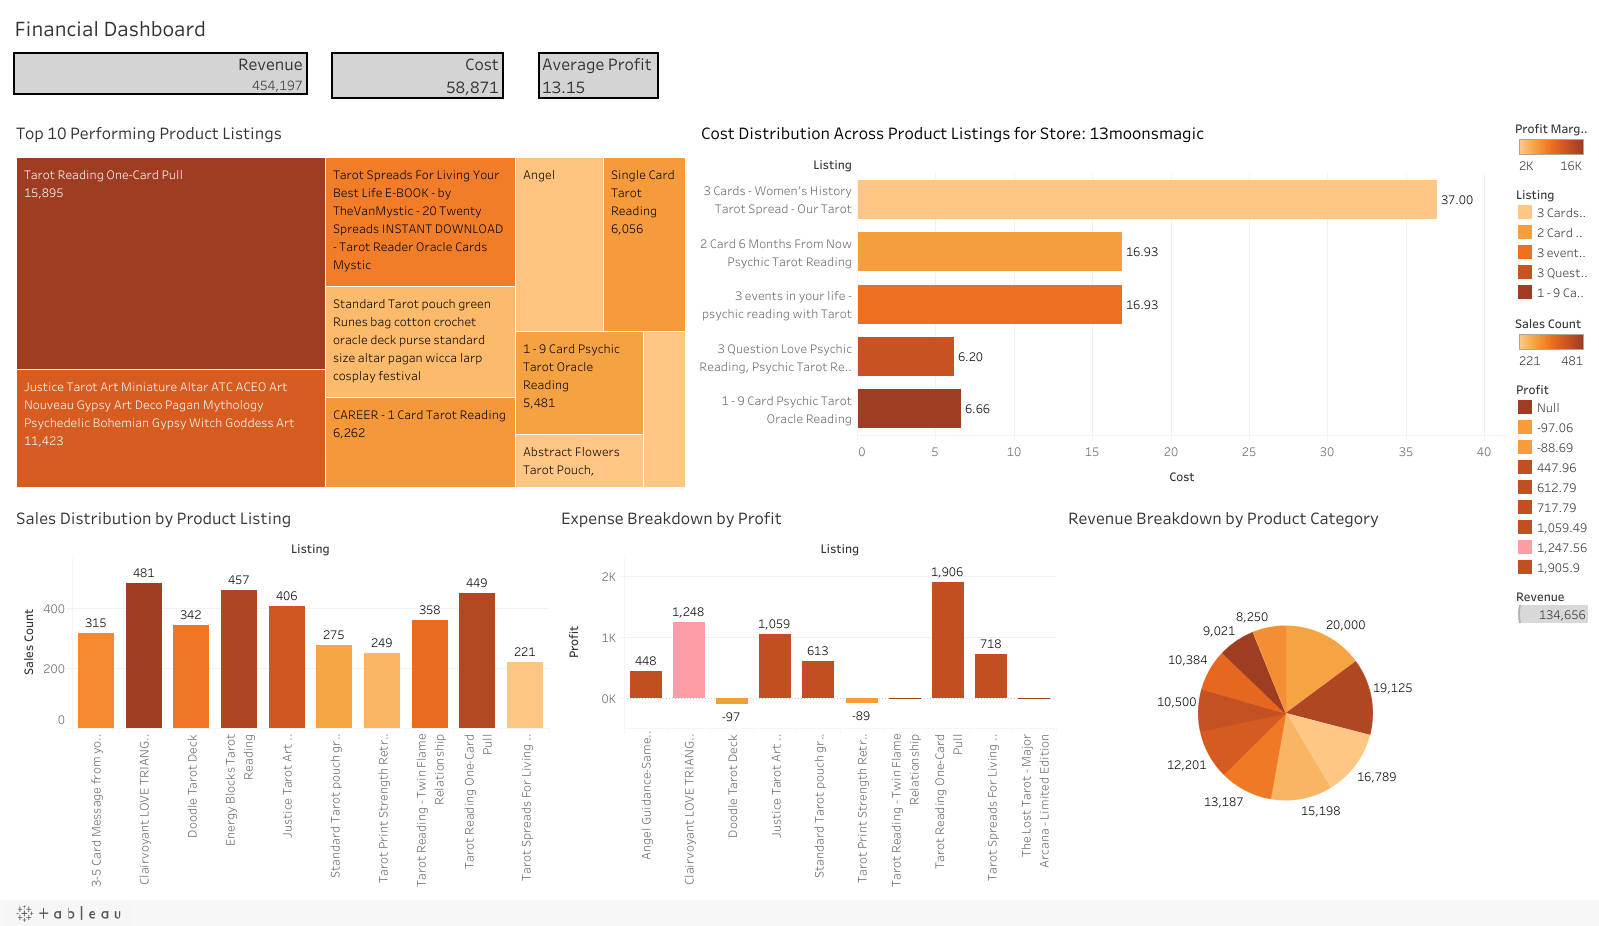

This screenshot's page, from the dashboard's own definition file:
{"tool":"tableau","page":{"name":"Dashboard 1","canvas":[1600,800],"ordinal":0},"visuals":[{"type":"title","box":[8,8,1584,40]},{"type":"worksheet","title":"Sheet 6","mark":"Automatic","box":[8,48,357,63.6]},{"type":"worksheet","title":"Sheet 5","mark":"Text","box":[365,48,1227,63.6]},{"type":"worksheet","title":"Sheet 3","mark":"Circle","box":[8,111.6,631,353.2]},{"type":"worksheet","title":"Sheet 2","mark":"Automatic","box":[639,111.6,823,353.2]},{"type":"legend","title":"Sheet 1","param":"[federated.1a23t400bw1kd4115lrkc0k2cz3f].[avg:Calculation_1123085176253964288:qk","box":[1462,111.6,130,73]},{"type":"legend","title":"Sheet 3","param":"[federated.1a23t400bw1kd4115lrkc0k2cz3f].[sum:sales_count:qk]","box":[1462,184.6,130,73]},{"type":"legend","title":"Sheet 2","param":"[federated.1a23t400bw1kd4115lrkc0k2cz3f].[sum:sales_count:ok]","box":[1462,257.6,130,135]},{"type":"legend","title":"Sheet 4","param":"[federated.1a23t400bw1kd4115lrkc0k2cz3f].[none:store:nk]","box":[1462,392.6,130,156]},{"type":"worksheet","title":"Sheet 1","mark":"Automatic","rows":["store"],"cols":["Calculation_1123085176253964288"],"box":[8,464.8,975,327.2]},{"type":"worksheet","title":"Sheet 4","mark":"Pie","box":[983,464.8,479,327.2]}]}

Visuals, with their boxes on the page's 1600x800 design canvas (x1, y1, x2, y2). These are canvas units, not pixel positions in the 1599x926 screenshot, which may show the page scaled, cropped or inside an application window:
title: select_region(8, 8, 1592, 48)
"Sheet 6" worksheet: select_region(8, 48, 365, 112)
"Sheet 5" worksheet (Text marks): select_region(365, 48, 1592, 112)
"Sheet 3" worksheet (Circle marks): select_region(8, 112, 639, 465)
"Sheet 2" worksheet: select_region(639, 112, 1462, 465)
"Sheet 1" legend: select_region(1462, 112, 1592, 185)
"Sheet 3" legend: select_region(1462, 185, 1592, 258)
"Sheet 2" legend: select_region(1462, 258, 1592, 393)
"Sheet 4" legend: select_region(1462, 393, 1592, 549)
"Sheet 1" worksheet: select_region(8, 465, 983, 792)
"Sheet 4" worksheet (Pie marks): select_region(983, 465, 1462, 792)
